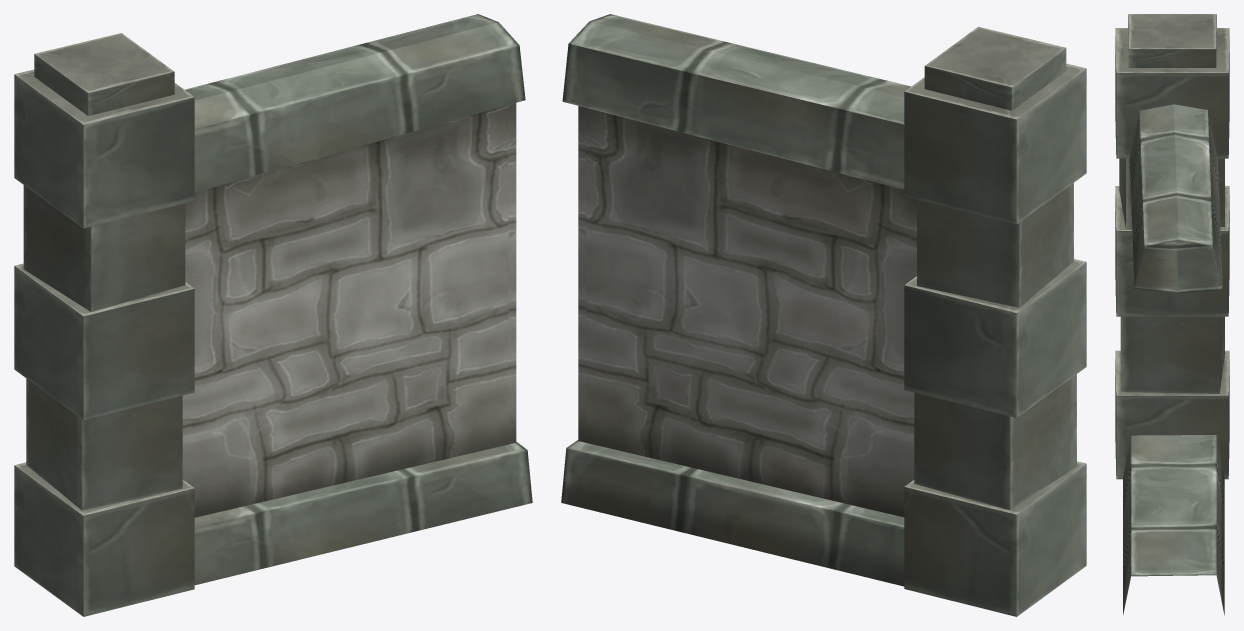
The model's file is wall_01_tile_02.fbx.
3 views of the same model, side by side, from view 1: azimuth 30°, elevation 25°; view 2: azimuth 150°, elevation 25°; view 3: azimuth 270°, elevation 25° (orthographic). The views are drawn at different scales.
Parts seen in each view (by area): view 1: wall_01_tile_02:Mesh; view 2: wall_01_tile_02:Mesh; view 3: wall_01_tile_02:Mesh.
Part boxes in pixels (x1,y1,x2,y2): wall_01_tile_02:Mesh: [14, 14, 532, 616]; wall_01_tile_02:Mesh: [561, 14, 1086, 616]; wall_01_tile_02:Mesh: [1115, 14, 1229, 615].
Size of the model in its own units: 2.59 by 2.81 by 0.6835.
